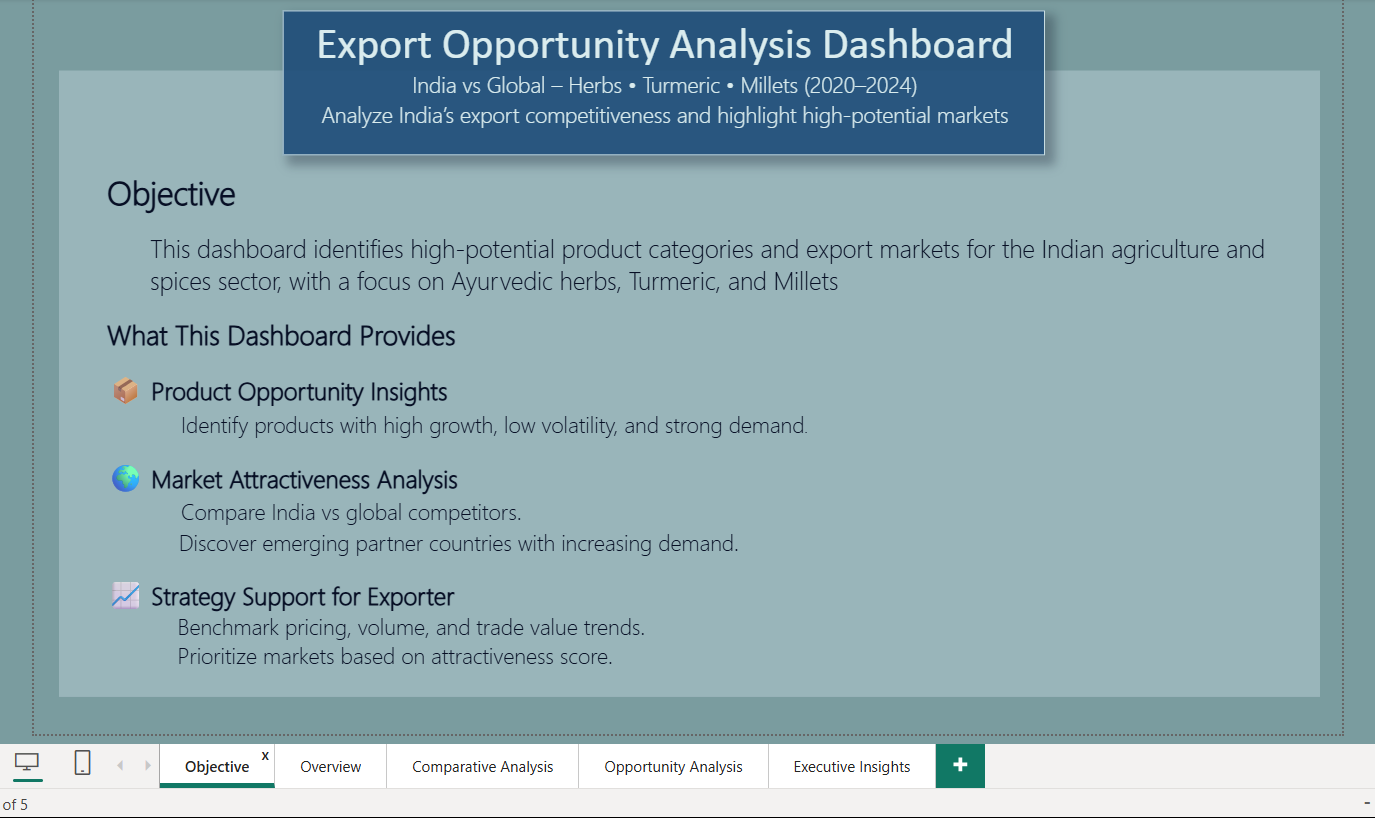

What the dashboard file says about the page in this screenshot:
{"tool":"powerbi","page":{"name":"Objective","canvas":[1280,720],"ordinal":0},"visuals":[{"type":"textbox","box":[24.5,70.9,1233.8,612.6],"z":1000},{"type":"textbox","title":"Export Opportunity Analysis Dashboard","box":[243.3,12.2,745.9,141.8],"z":1500}]}

Visuals, with their boxes on the page's 1280x720 design canvas (x1, y1, x2, y2). These are canvas units, not pixel positions in the 1375x818 screenshot, which may show the page scaled, cropped or inside an application window:
textbox: box(24, 71, 1258, 684)
"Export Opportunity Analysis Dashboard" textbox: box(243, 12, 989, 154)
